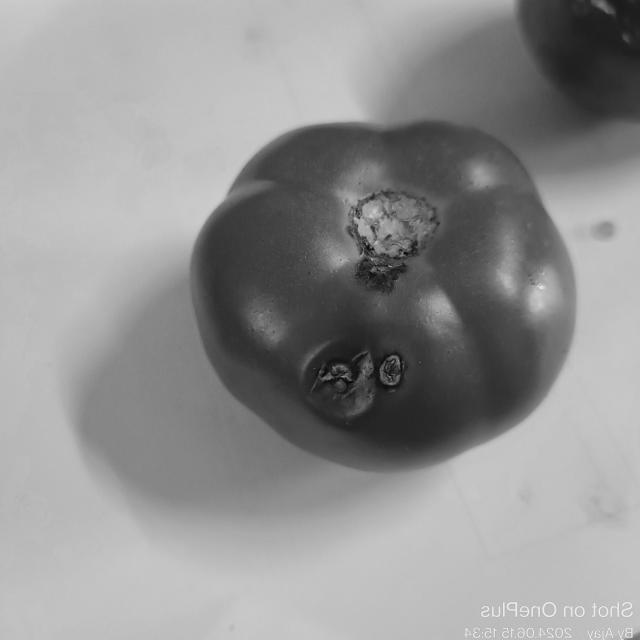Botrytis: (307, 342, 407, 422)
